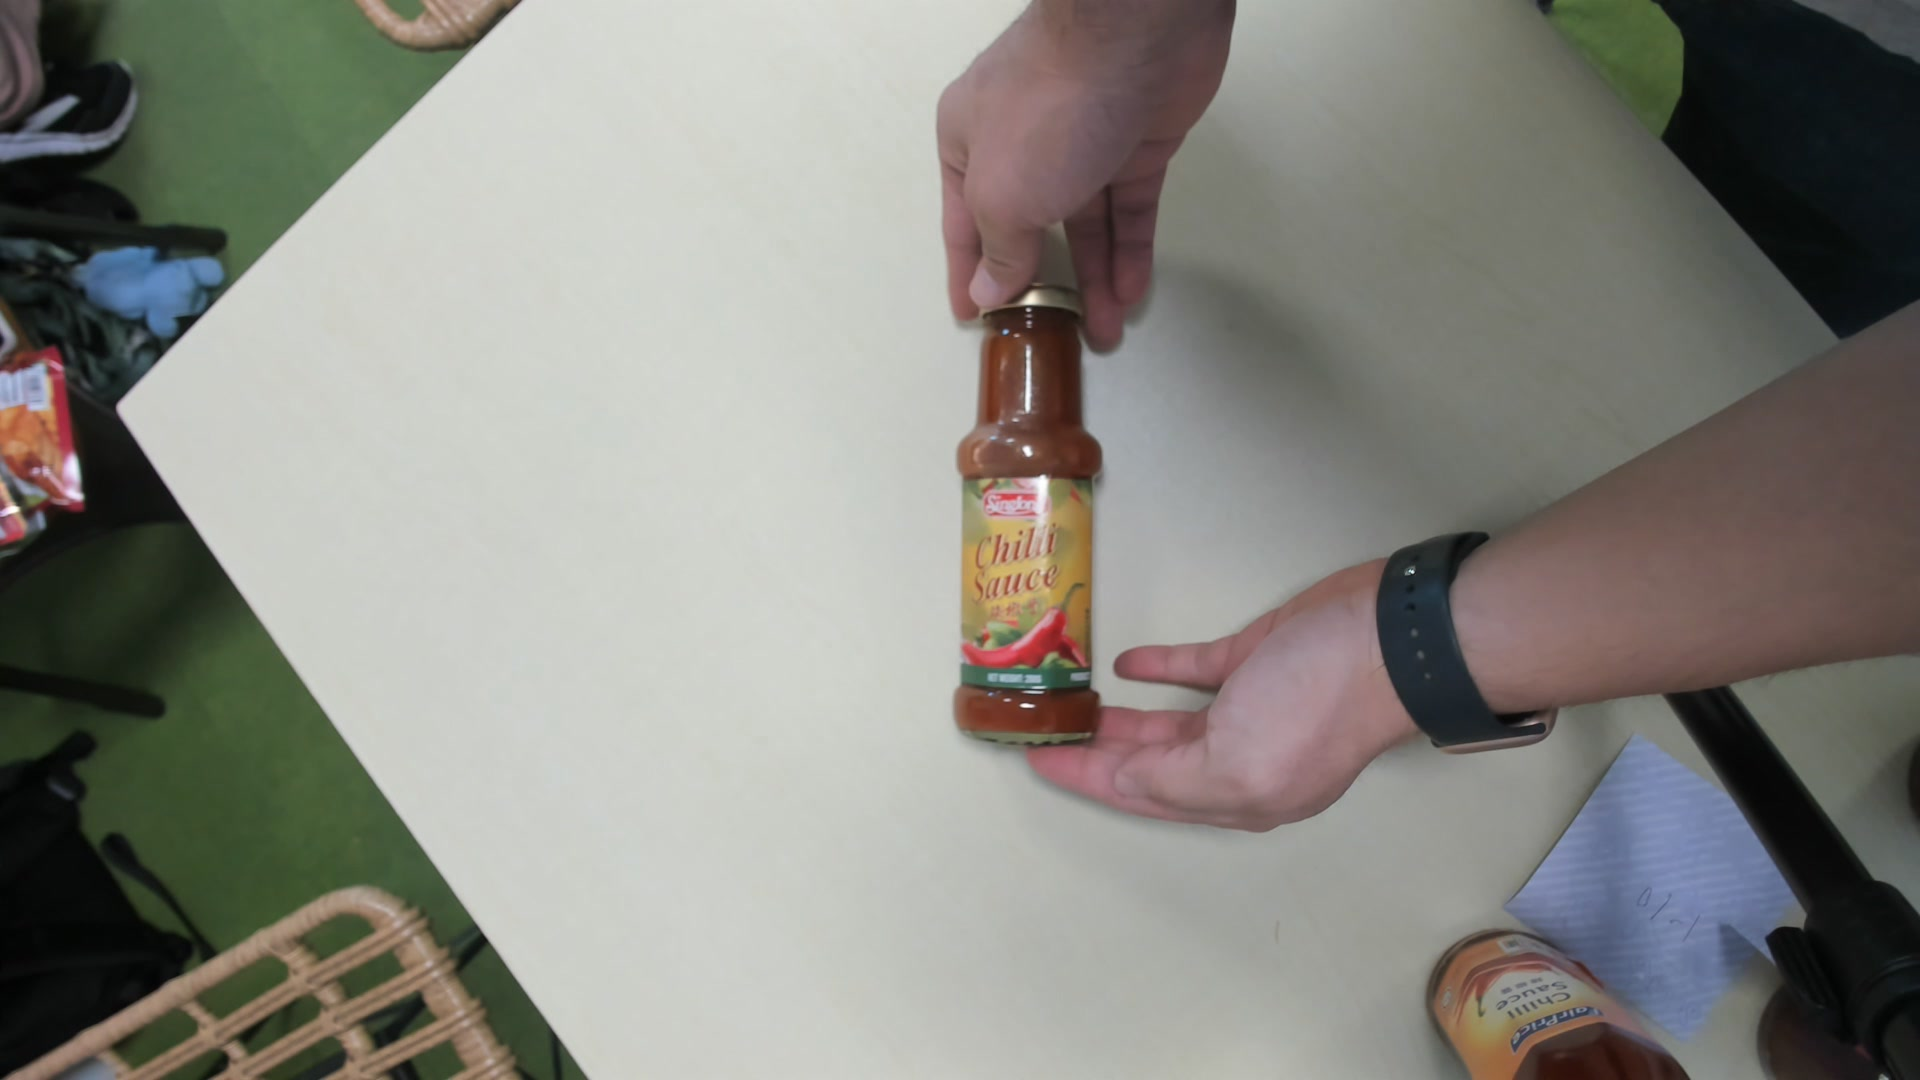KetchupChillSauce_200-299g_Halal_NonHealthy: (948, 280, 1098, 749)
